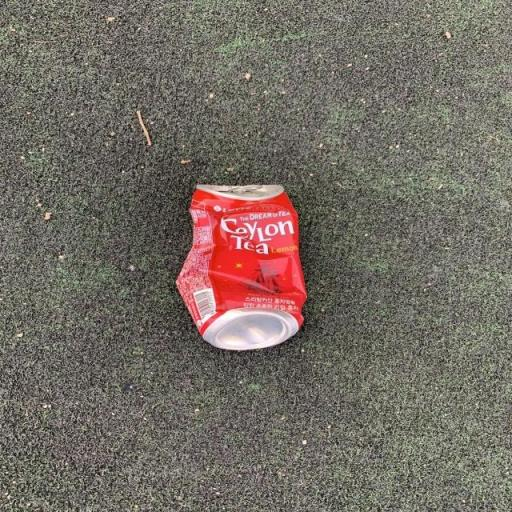metal: (159, 162, 318, 372)
